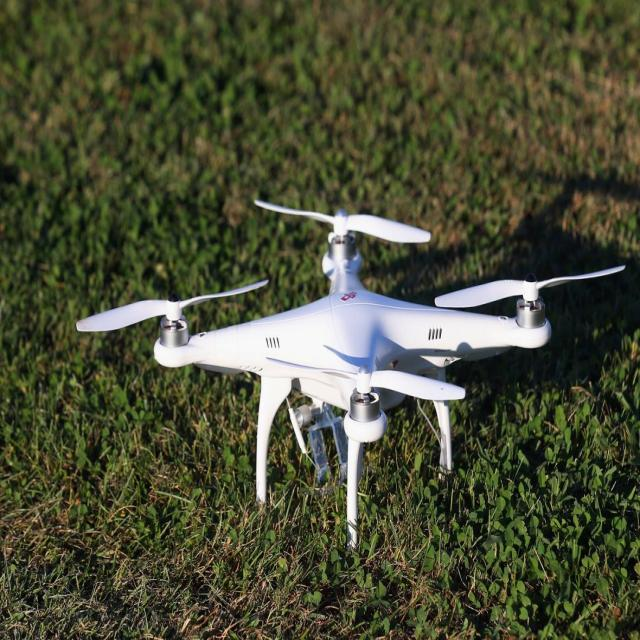drone: (73, 189, 626, 553)
